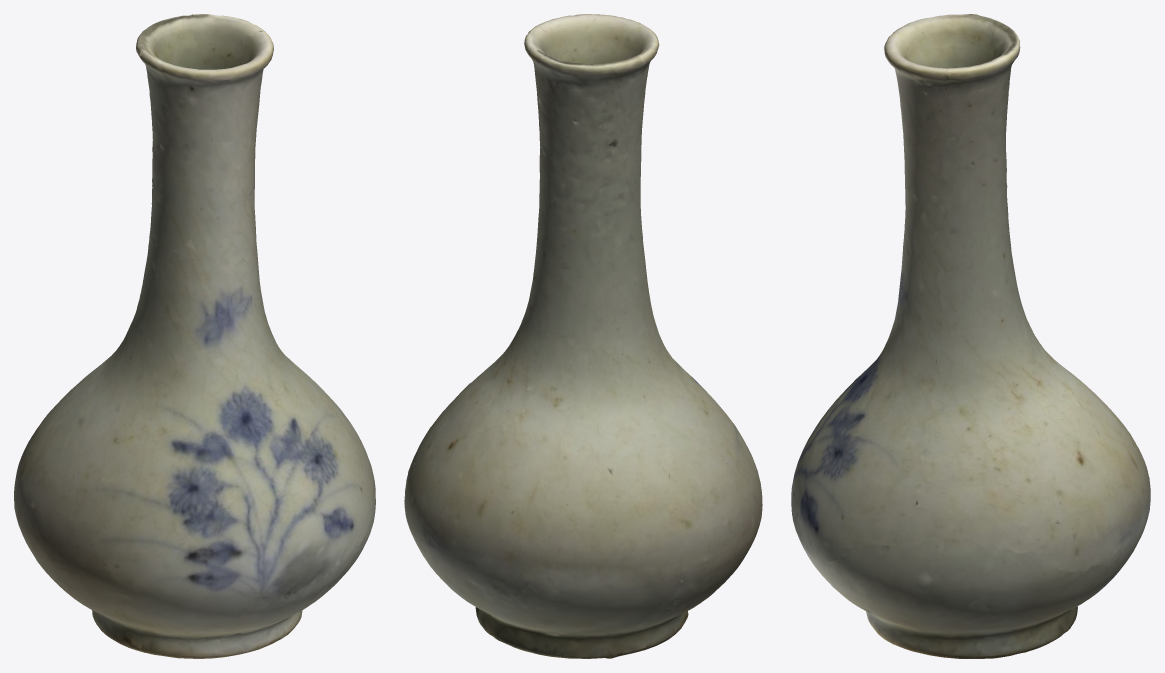
File: kcdf_bottle.glb
The picture shows the model from 3 angles, left to right: view 1: azimuth 30°, elevation 25°; view 2: azimuth 150°, elevation 25°; view 3: azimuth 270°, elevation 25°; orthographic projection.
Visible parts, largest first — view 1: Model; view 2: Model; view 3: Model.
Part boxes in pixels (x1,y1,x2,y2): Model: (14, 14, 375, 658); Model: (404, 14, 762, 658); Model: (791, 14, 1150, 658).
Bounding box in the file's own units: 0.1085 × 0.1931 × 0.1087.
1 material, 1 textured.
